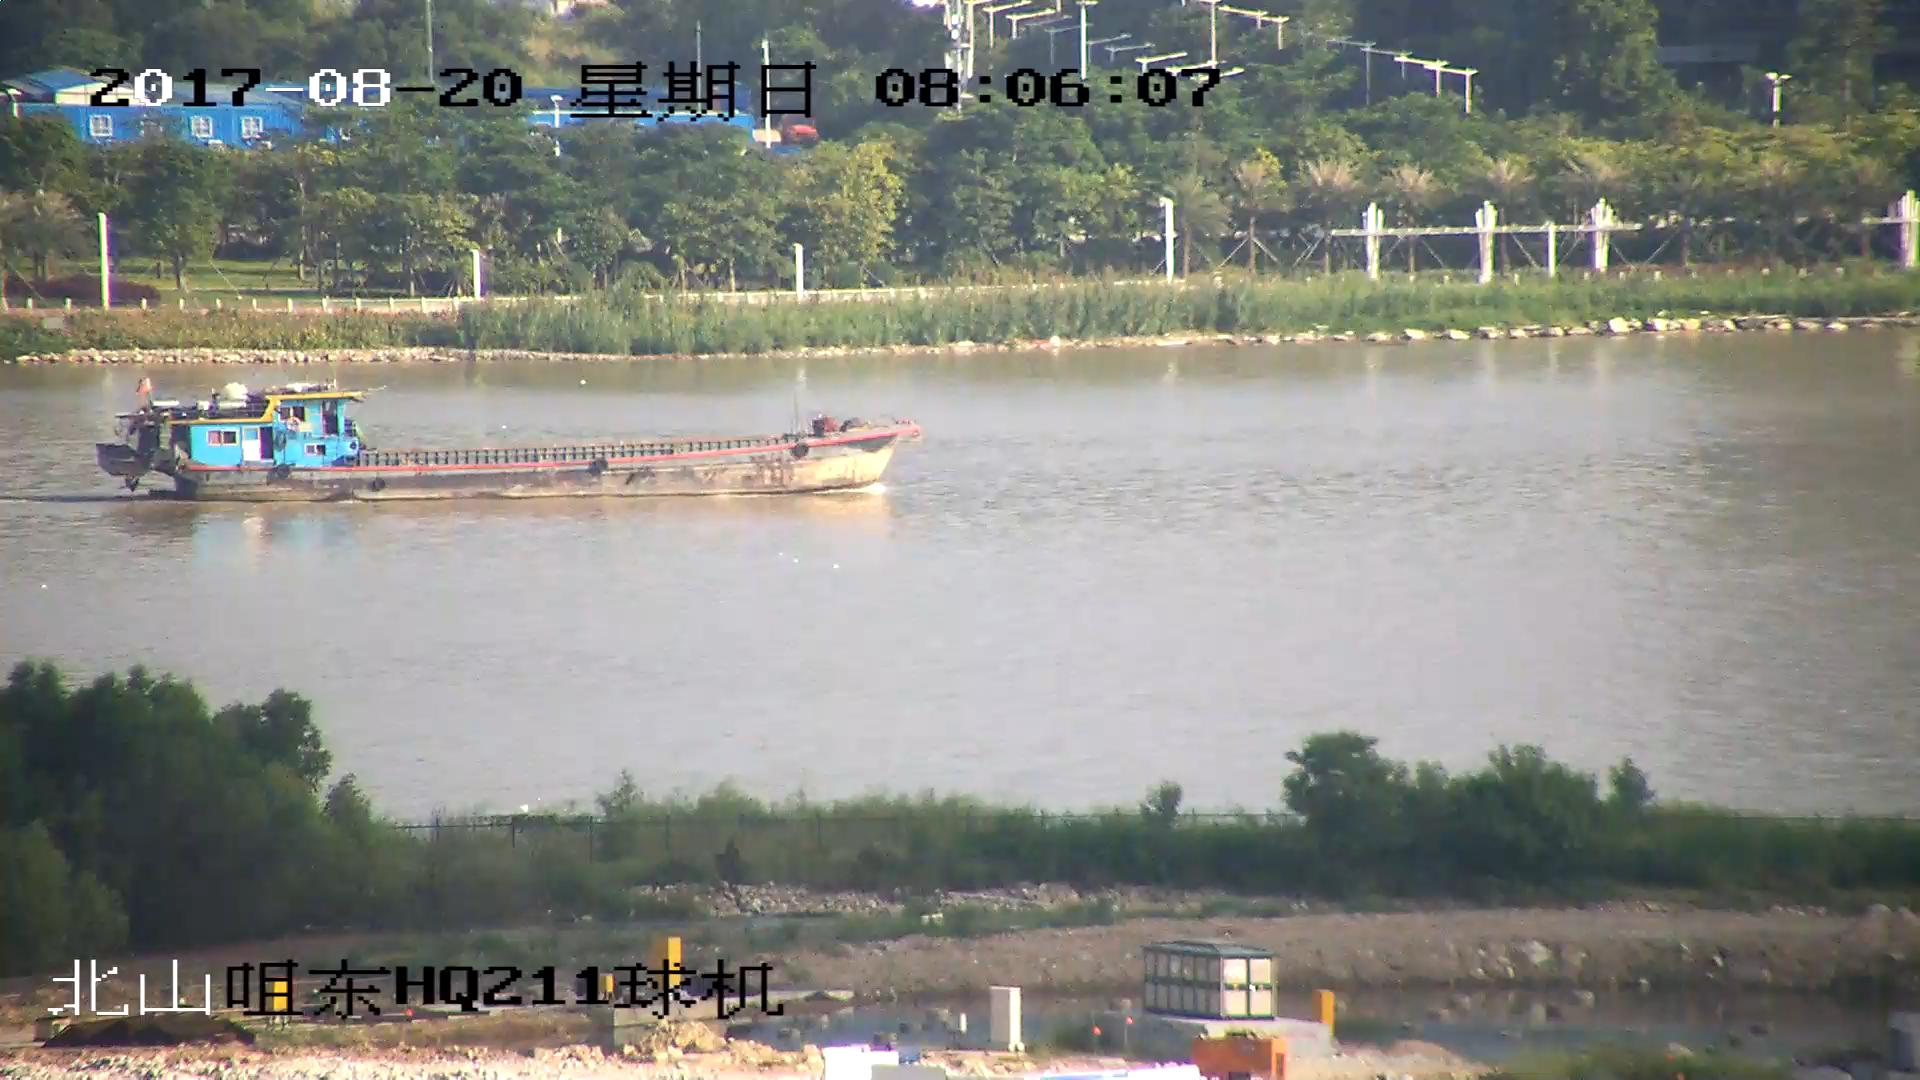fishing boat: (94, 377, 920, 505)
